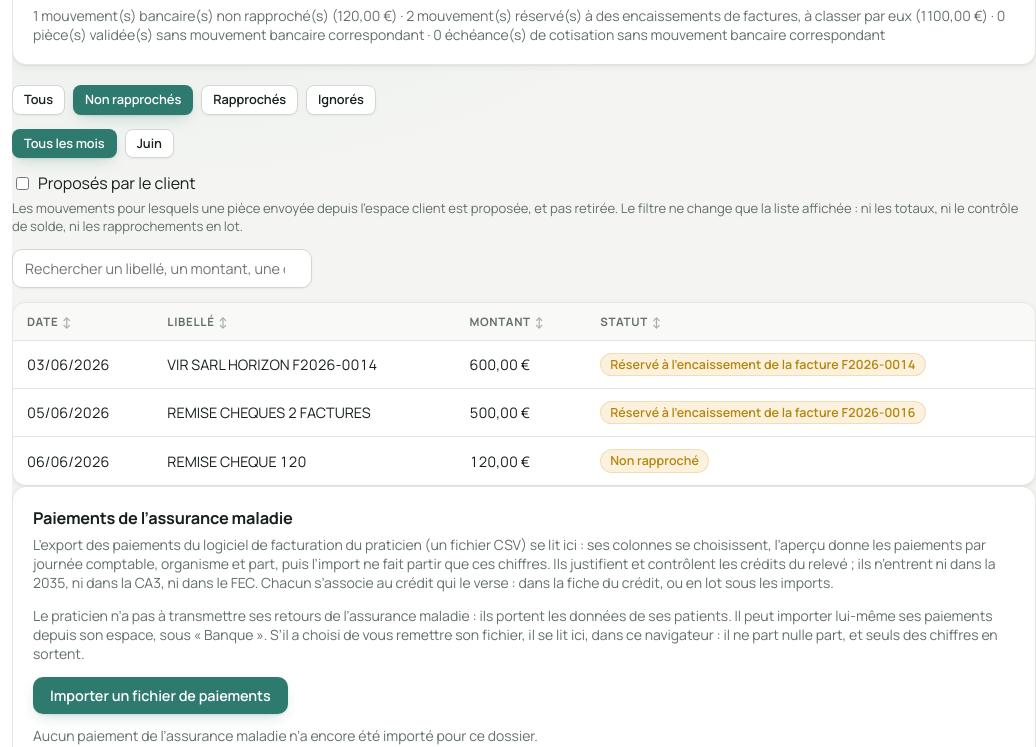
Test: un mouvement RÉSERVÉ : classer par ses encaissements › la phrase, la confirmation qui nomme la facture et le montant, l’appel et ses paramètres, puis la relecture
This screenshot has width=1036, height=747.
(page scrolled)
Click the row that starts with "VIR SARL HORIZON F2026-0014": [524, 364] box [13,340,1035,388]
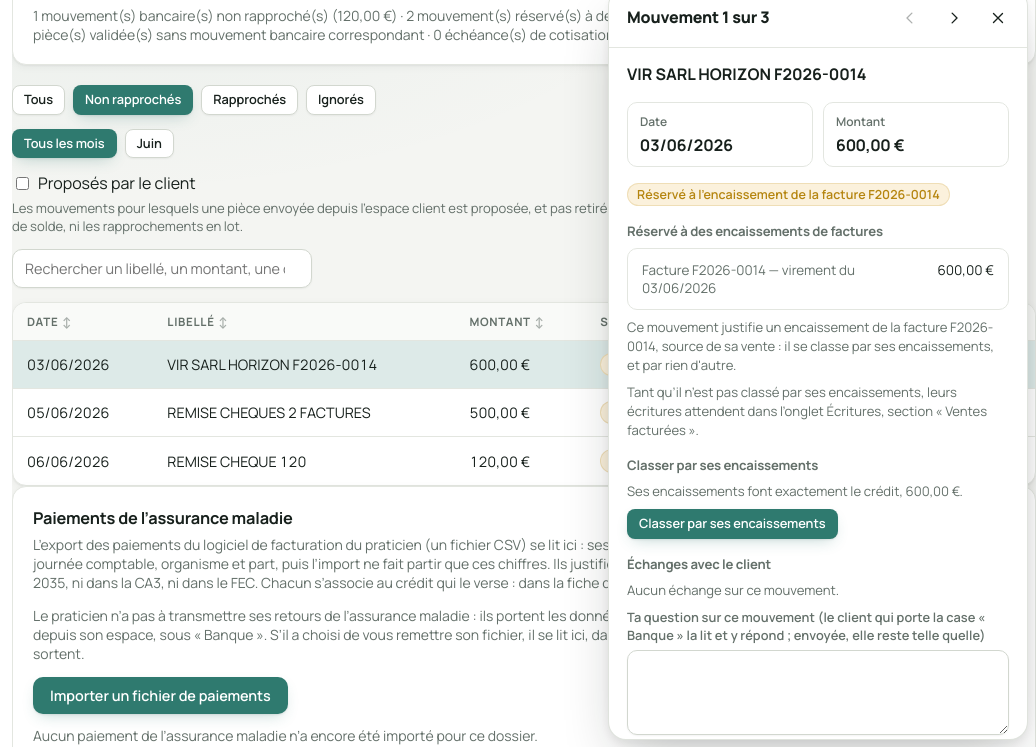
Result: the element "Classer par ses encaissements" shows "Ses encaissements font exactement le crédit, 600,00 €." at [627,482,963,500]
Click the button "Classer par ses encaissements": [732, 524] box [627,509,838,539]
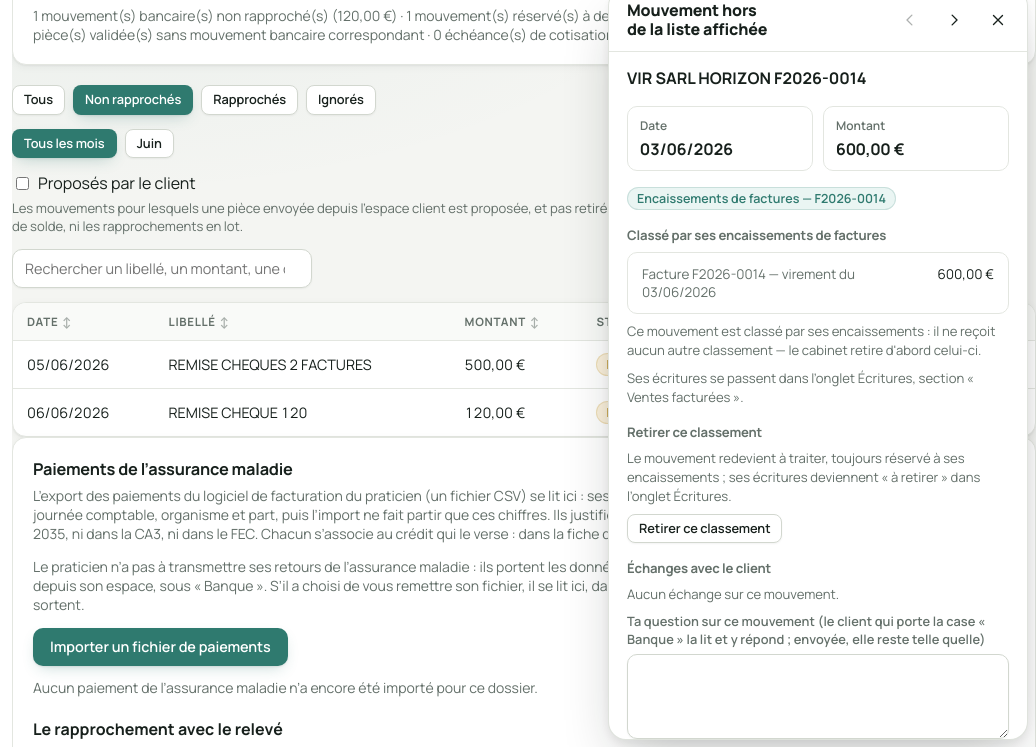
Result: the element "Retirer ce classement" is shown at [627,423,1009,543]
